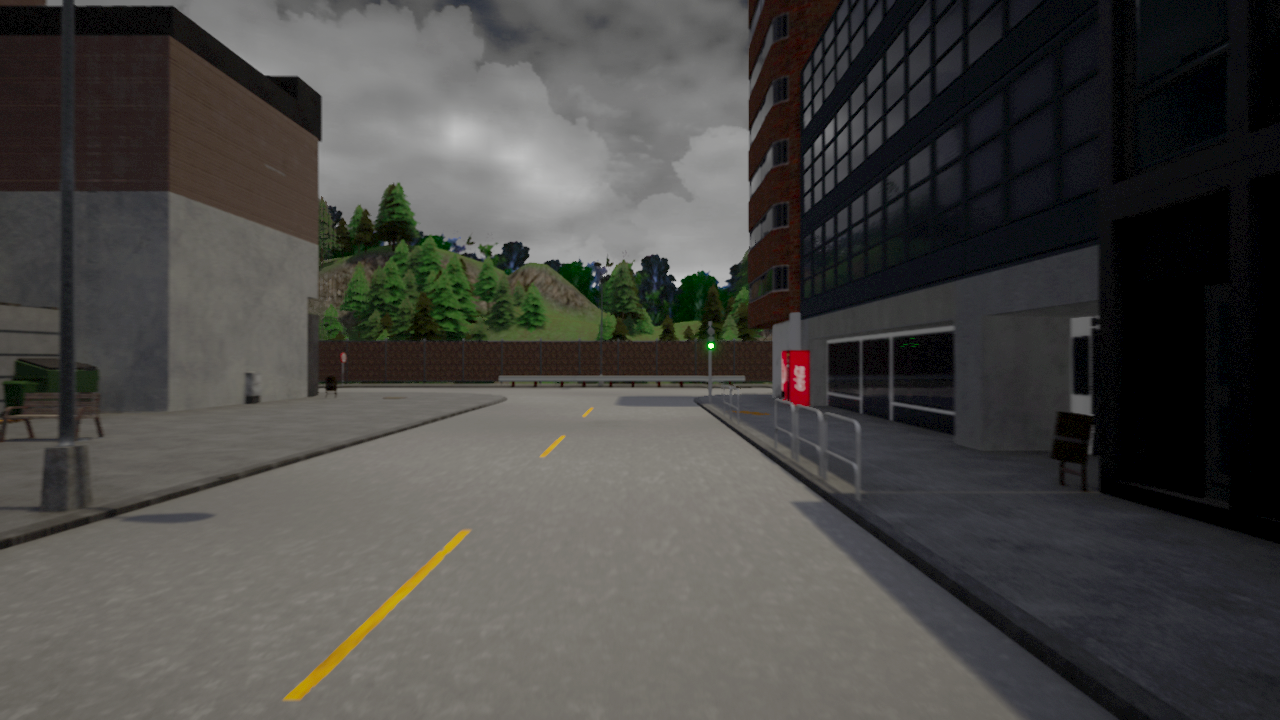green: (705, 326, 717, 350)
